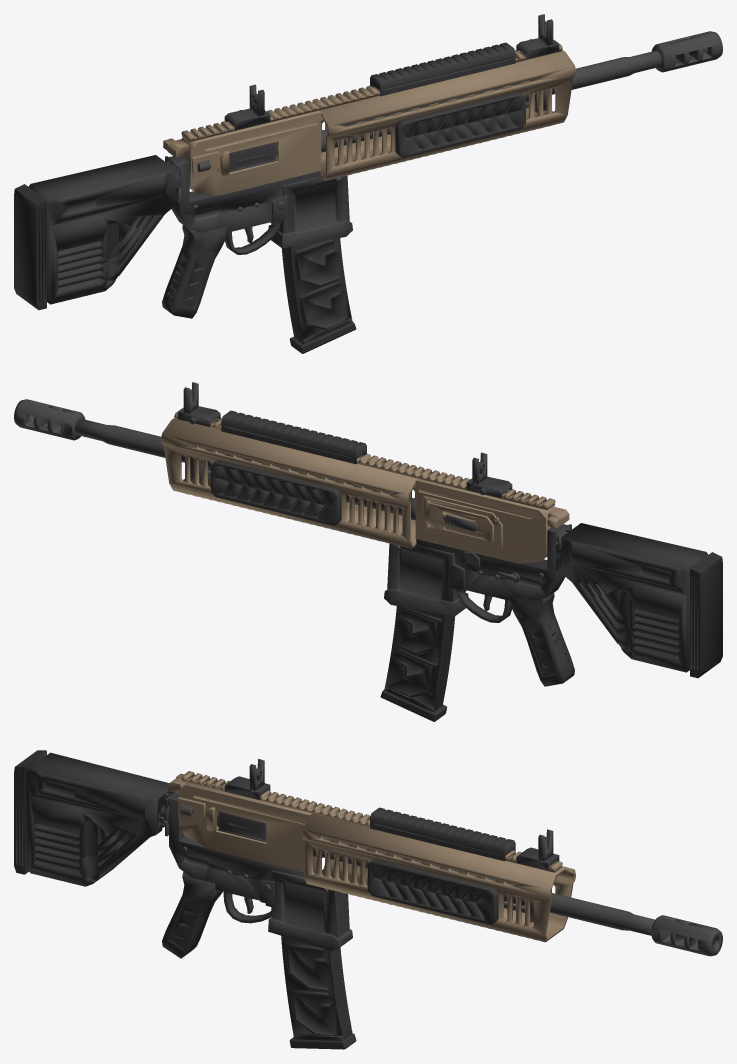
The model's file is MK35_ISR_BO7_LOD1.glb.
3 views of the same model, one above another, from view 1: azimuth 30°, elevation 25°; view 2: azimuth 150°, elevation 25°; view 3: azimuth 330°, elevation 25° (orthographic).
Visible parts, largest first — view 1: stock, handguard, receiver_lower, receiver_upper, magazine, handguard_side_panels, butt_pad, grip, handguard_top_panel, barrel, rail_top, muzzle_brake (+5 smaller); view 2: stock, handguard, receiver_lower, receiver_upper, magazine, handguard_side_panels, butt_pad, grip, handguard_top_panel, barrel, rail_top, muzzle_brake (+4 smaller); view 3: stock, handguard, receiver_lower, receiver_upper, magazine, handguard_side_panels, handguard_top_panel, grip, barrel, rail_top, muzzle_brake, butt_pad (+5 smaller).
Part boxes in pixels (x1,y1,x2,y2): stock: (28,155,175,304); handguard: (319,49,575,180); receiver_lower: (169,156,352,248); receiver_upper: (181,110,321,195); magazine: (281,238,352,344); handguard_side_panels: (395,92,525,157); butt_pad: (14,184,46,310); grip: (162,225,226,318); handguard_top_panel: (370,42,515,96); barrel: (321,50,661,152); rail_top: (181,40,562,141); muzzle_brake: (651,31,722,72); stock: (561,523,708,672); handguard: (161,417,417,548); receiver_lower: (384,524,567,616); receiver_upper: (415,478,555,563); magazine: (384,606,455,712); handguard_side_panels: (211,460,341,525); butt_pad: (690,552,722,678); grip: (510,593,574,686); handguard_top_panel: (221,410,366,464); barrel: (75,418,415,520); rail_top: (174,409,555,509); muzzle_brake: (14,399,85,440); stock: (26,752,173,886); handguard: (303,813,575,942); receiver_lower: (169,793,352,951); receiver_upper: (178,783,316,871); magazine: (281,935,352,1040); handguard_side_panels: (367,859,498,924); handguard_top_panel: (370,807,515,861); grip: (162,872,222,958); barrel: (313,837,654,935); rail_top: (181,771,562,872); muzzle_brake: (651,915,722,956); butt_pad: (14,750,46,874).
Size of the model in its own units: 0.905 by 0.3405 by 0.072.
Materials: 1 (1 with a texture image).
